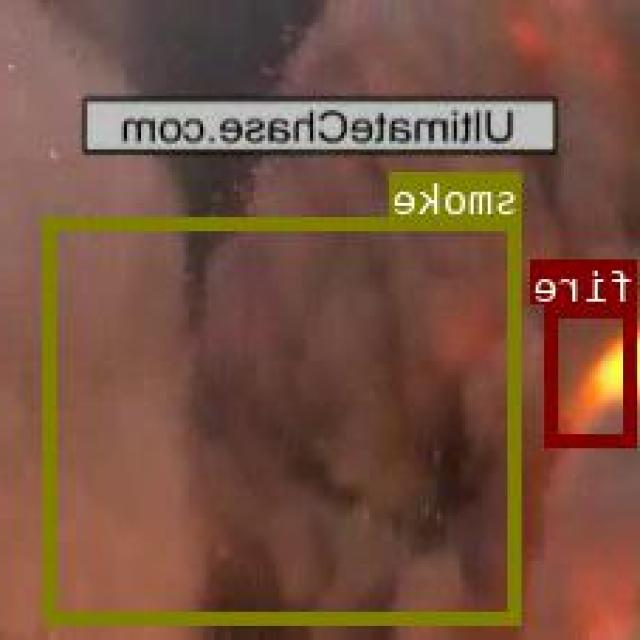fire: (548, 303, 639, 445)
smoke: (47, 217, 522, 621)
